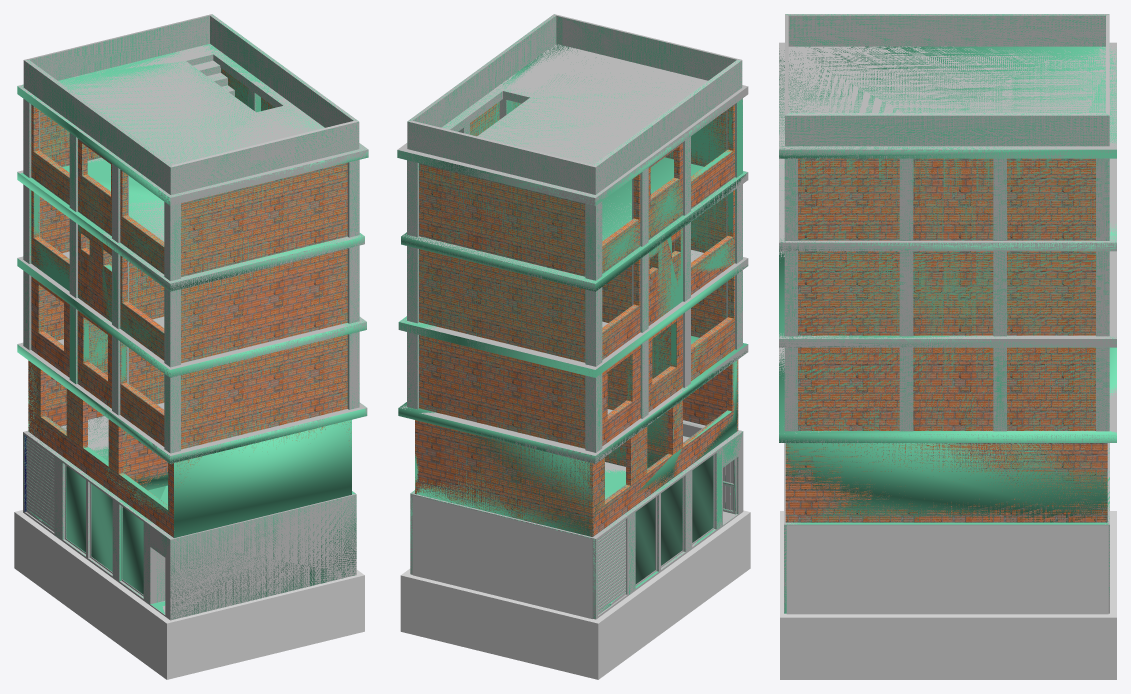
Rendered from CASA 22.fbx.
The picture shows the model from 3 angles, left to right: view 1: azimuth 30°, elevation 25°; view 2: azimuth 150°, elevation 25°; view 3: azimuth 270°, elevation 25°; orthographic projection. The views are drawn at different scales.
Visible parts, largest first — view 1: Casa22_LOD0, UTM_CASA22, Cube_LOD0; view 2: Casa22_LOD0, UTM_CASA22, Cube_LOD0, OCC_Oclusion1; view 3: Casa22_LOD0, UTM_CASA22, OCC_Oclusion2, Cube_LOD0.
Part boxes in pixels (left/top/right/bottom): Casa22_LOD0: left=17, top=14, right=368, bottom=620; UTM_CASA22: left=17, top=14, right=368, bottom=619; Cube_LOD0: left=14, top=510, right=364, bottom=679; Casa22_LOD0: left=397, top=14, right=748, bottom=619; UTM_CASA22: left=397, top=14, right=747, bottom=618; Cube_LOD0: left=400, top=510, right=750, bottom=679; OCC_Oclusion1: left=412, top=495, right=592, bottom=618; Casa22_LOD0: left=779, top=14, right=1116, bottom=613; UTM_CASA22: left=779, top=14, right=1116, bottom=613; OCC_Oclusion2: left=786, top=525, right=1108, bottom=614; Cube_LOD0: left=780, top=511, right=1116, bottom=679.
Size of what is drawn, in the model's own units: 747 by 1808 by 983.
